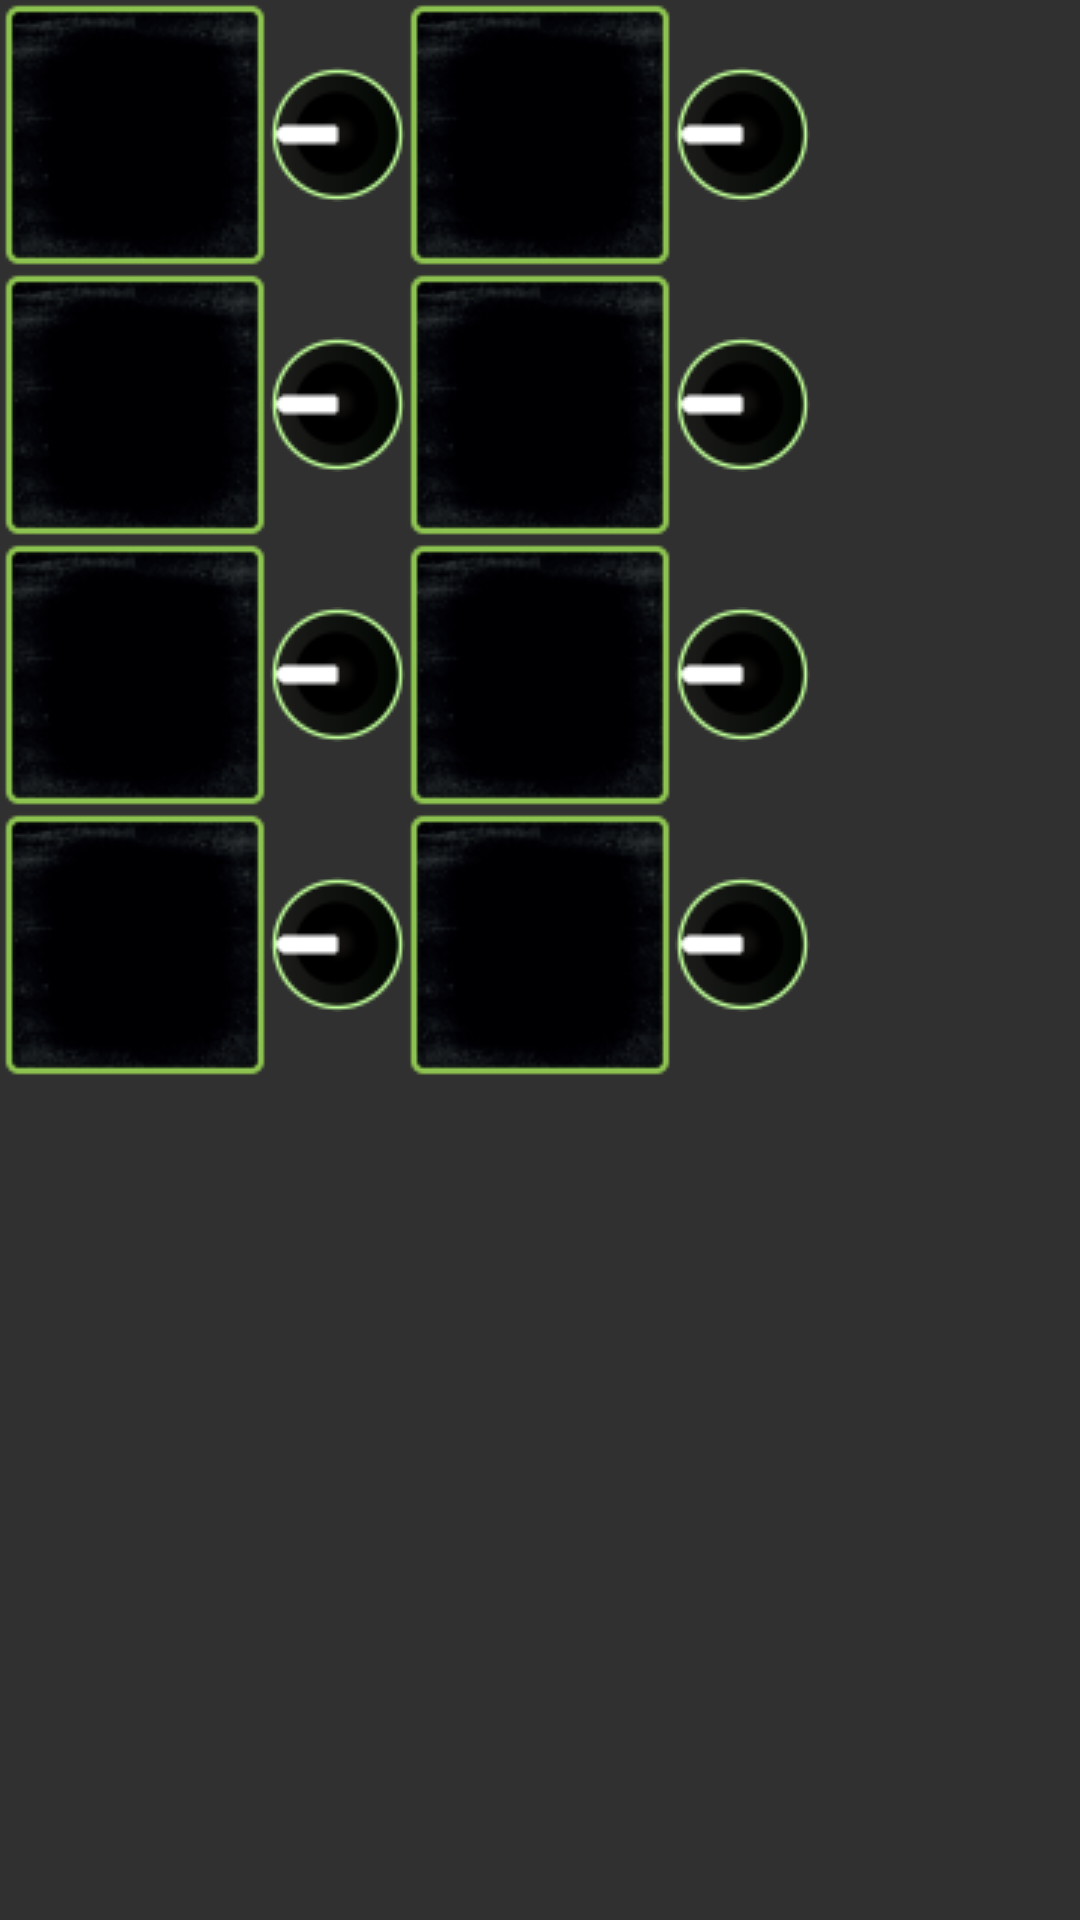

Point at icon controls on the screen. Image size 1080 x 1920, points as (x,y).
knob izq: (336,133), (741,133), (336,403), (741,403), (336,673), (741,673), (336,943), (741,943)
pad: (135,135), (540,135), (135,405), (540,405), (135,675), (540,675), (135,945), (540,945)
